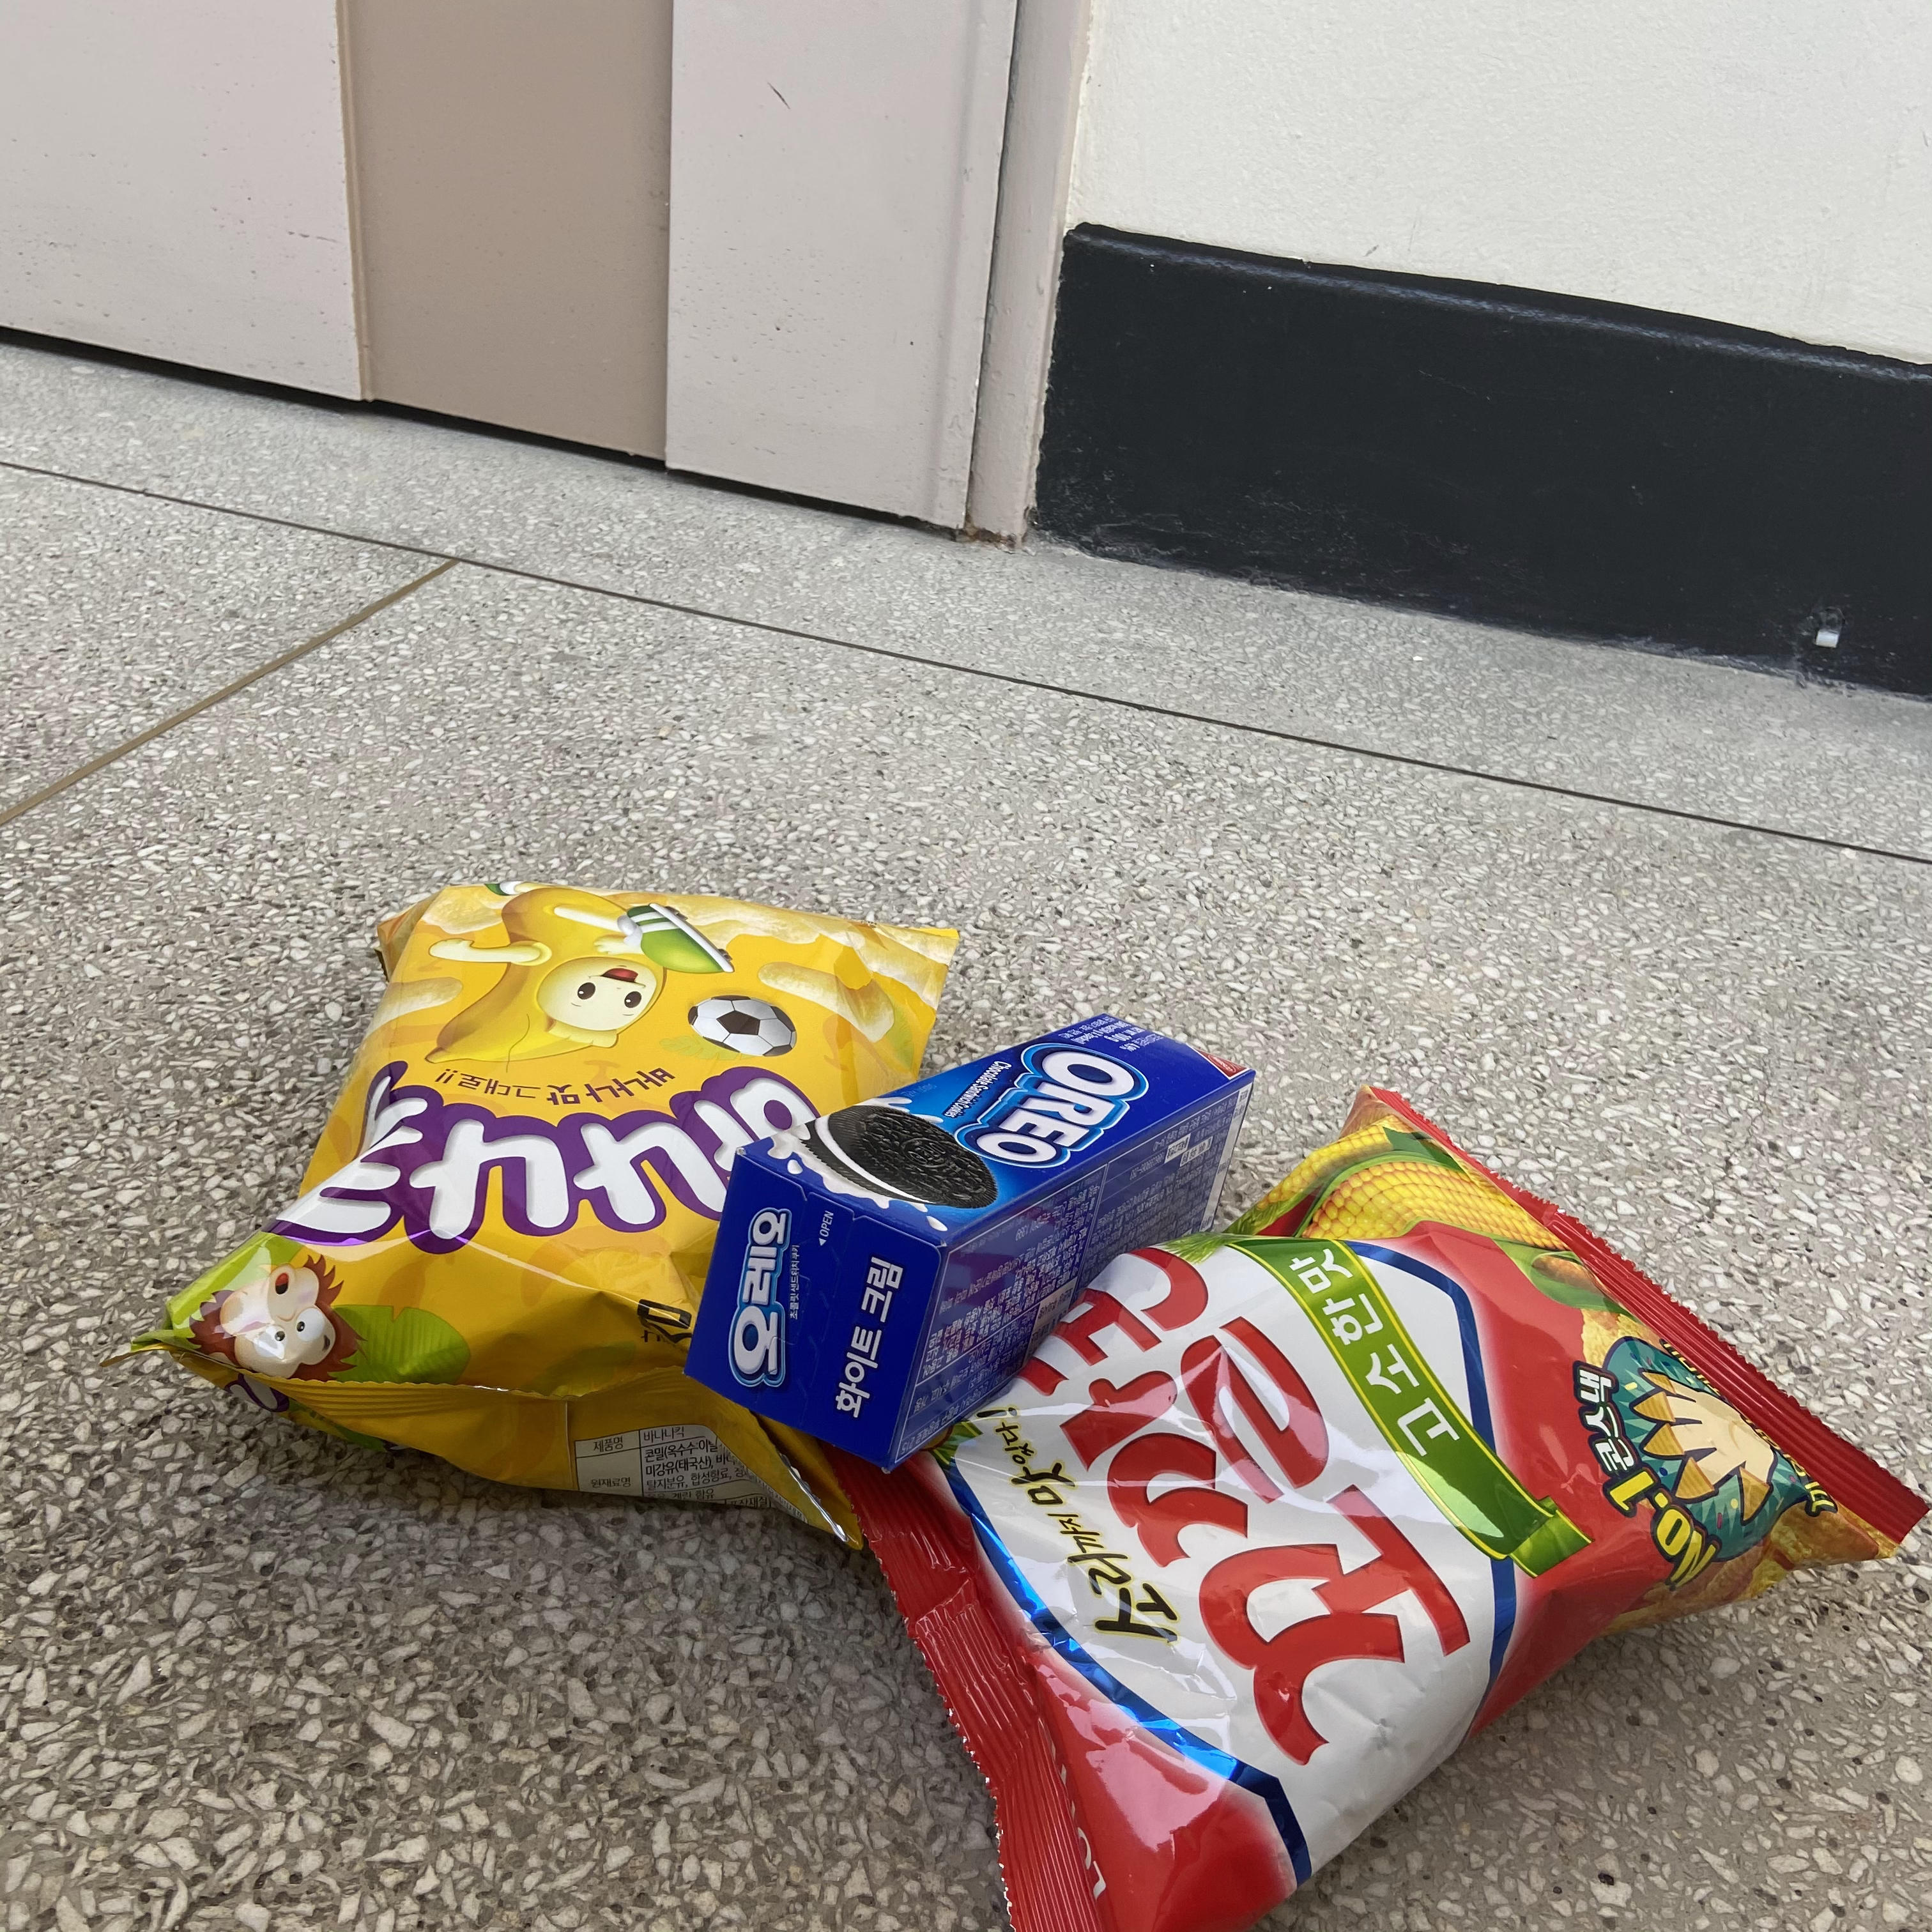banana: (136, 876, 962, 1562)
ggoggalcon: (766, 1083, 1930, 1930)
oreo: (669, 1003, 1270, 1483)
